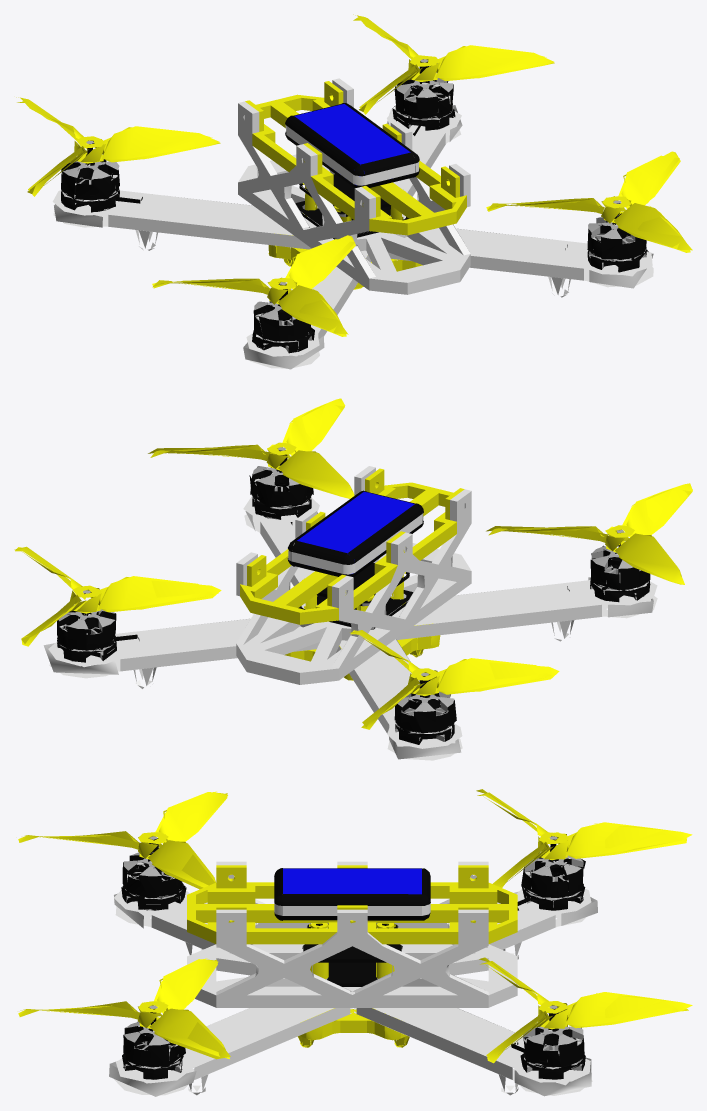
File: drone.gltf
3 views of the same model, one above another, from view 1: azimuth 30°, elevation 25°; view 2: azimuth 150°, elevation 25°; view 3: azimuth 270°, elevation 25° (orthographic). The views are drawn at different scales.
Parts seen in each view (by area): view 1: Propeller CW Pusher.step<1>, V2.1_Drone Arm V2.003, V2.1_Drone Base Middle Plate V2, V2.1_Drone Base Top Plate V2, Part 16.001, V2.1_LiPo Dummy, Part 17.002, V2.1_SpeedyBee Dummy, V2.1_Drone Base Plate V2; view 2: V2.1_Drone Arm V2.003, Propeller CW Pusher.step<1>, V2.1_Drone Base Middle Plate V2, V2.1_Drone Base Top Plate V2, Part 16.001, V2.1_LiPo Dummy, Part 17.002, V2.1_SpeedyBee Dummy, V2.1_Drone Base Plate V2; view 3: V2.1_Drone Base Middle Plate V2, Propeller CW Pusher.step<1>, V2.1_Drone Arm V2.003, V2.1_Drone Base Top Plate V2, Part 16.001, V2.1_LiPo Dummy, Part 17.002, V2.1_SpeedyBee Dummy, V2.1_Drone Base Plate V2.
Part boxes in pixels (<box>): Propeller CW Pusher.step<1>: <box>16,14,692,336</box>; V2.1_Drone Arm V2.003: <box>52,105,653,369</box>; V2.1_Drone Base Middle Plate V2: <box>238,78,470,294</box>; V2.1_Drone Base Top Plate V2: <box>245,81,466,235</box>; Part 16.001: <box>61,59,646,341</box>; V2.1_LiPo Dummy: <box>285,103,419,188</box>; Part 17.002: <box>61,85,648,353</box>; V2.1_SpeedyBee Dummy: <box>295,174,408,239</box>; V2.1_Drone Base Plate V2: <box>268,233,422,289</box>; V2.1_Drone Arm V2.003: <box>43,496,657,760</box>; Propeller CW Pusher.step<1>: <box>14,398,692,729</box>; V2.1_Drone Base Middle Plate V2: <box>236,466,471,684</box>; V2.1_Drone Base Top Plate V2: <box>240,468,464,624</box>; Part 16.001: <box>57,447,650,733</box>; V2.1_LiPo Dummy: <box>287,490,423,577</box>; Part 17.002: <box>57,474,650,744</box>; V2.1_SpeedyBee Dummy: <box>298,563,413,629</box>; V2.1_Drone Base Plate V2: <box>284,623,440,680</box>; V2.1_Drone Base Middle Plate V2: <box>187,861,517,1007</box>; Propeller CW Pusher.step<1>: <box>18,789,692,1063</box>; V2.1_Drone Arm V2.003: <box>109,889,597,1096</box>; V2.1_Drone Base Top Plate V2: <box>187,865,517,944</box>; Part 16.001: <box>122,836,585,1069</box>; V2.1_LiPo Dummy: <box>274,868,430,920</box>; Part 17.002: <box>121,863,585,1079</box>; V2.1_SpeedyBee Dummy: <box>302,923,402,986</box>; V2.1_Drone Base Plate V2: <box>297,1008,409,1047</box>.
Size of the model in its own units: 0.2941 by 0.0741 by 0.313.
